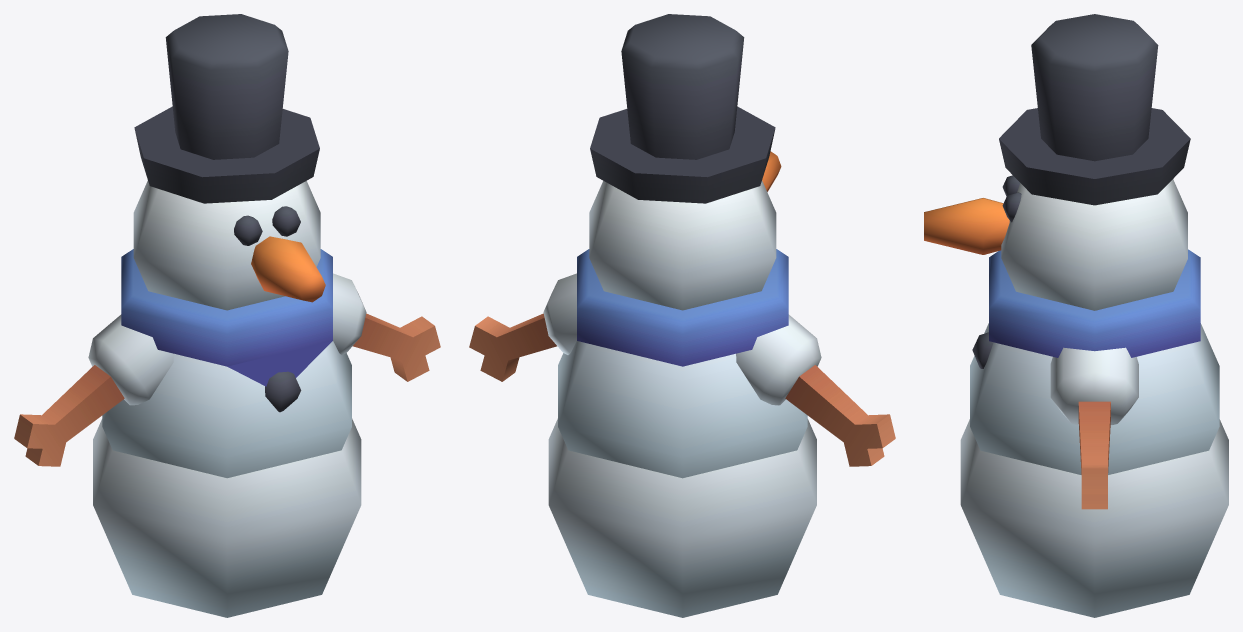
File: k-holiday-snowman-hat.glb
3 views of the same model, side by side, from view 1: azimuth 30°, elevation 25°; view 2: azimuth 150°, elevation 25°; view 3: azimuth 270°, elevation 25° (orthographic).
Visible parts, largest first — view 1: snowman-hat; view 2: snowman-hat; view 3: snowman-hat.
Boxes of the visible parts, <box> form: snowman-hat: <box>14,14,440,617</box>; snowman-hat: <box>469,14,895,617</box>; snowman-hat: <box>924,14,1228,617</box>.
Bounding box in the file's own units: 1.08 × 1.36 × 0.6883.
Materials: 1 (1 with a texture image).
